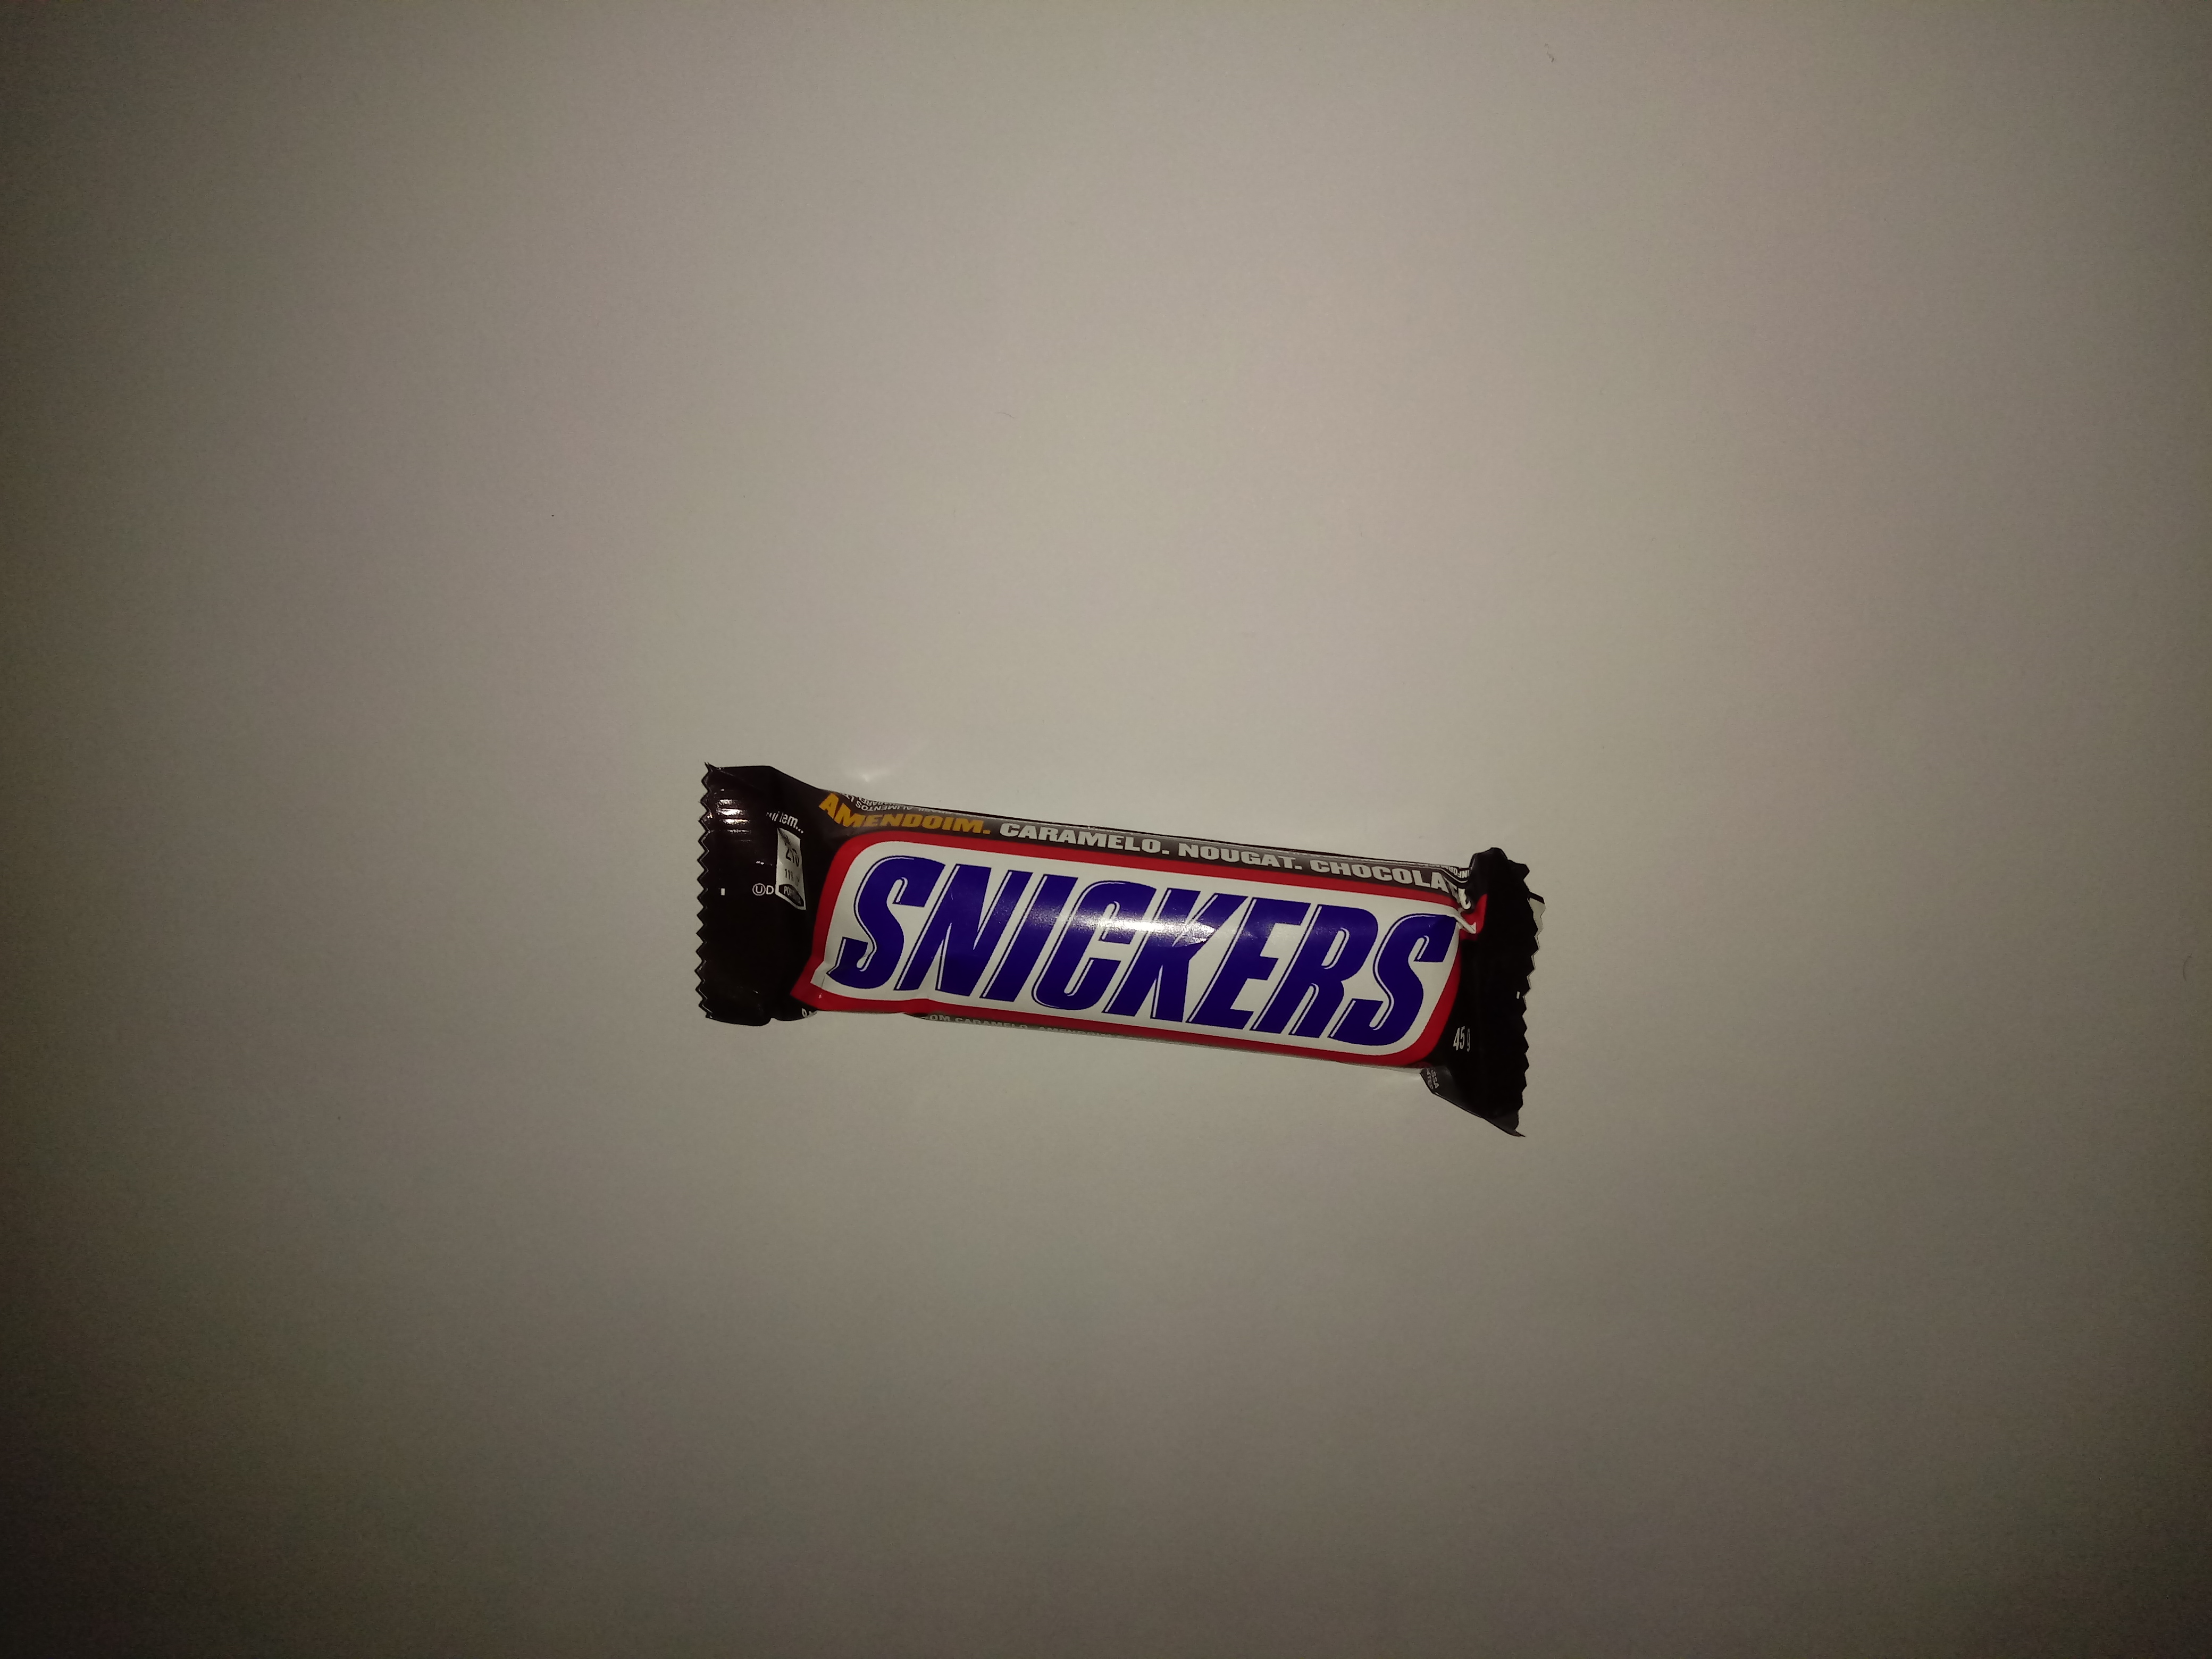snickers: (679, 748, 1564, 1161)
